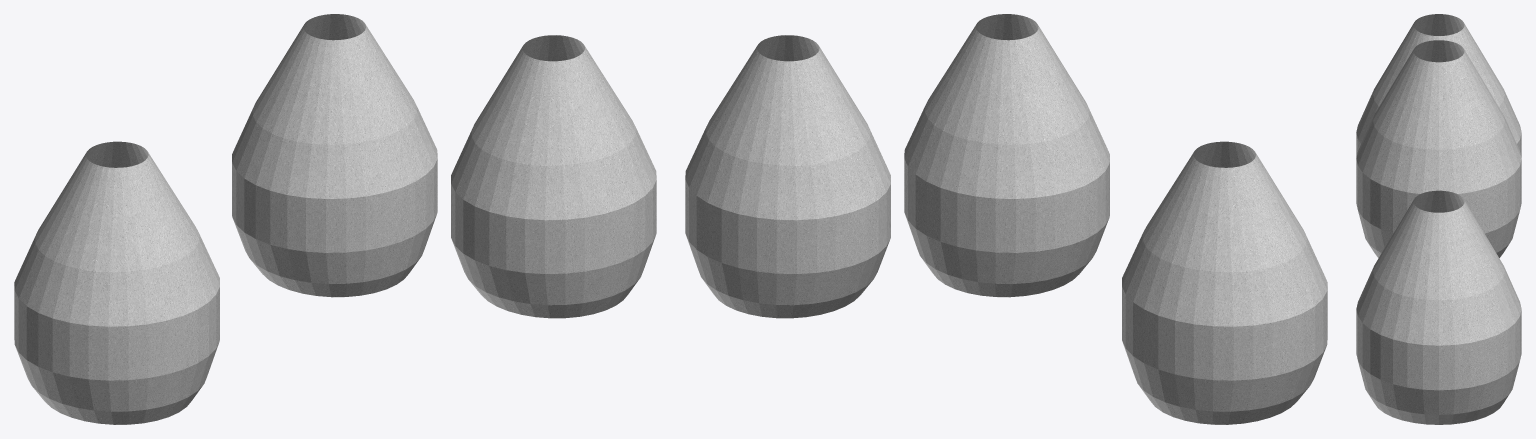
The model's file is лампа_сама.fbx.
3 views of the same model, side by side, from view 1: azimuth 30°, elevation 25°; view 2: azimuth 150°, elevation 25°; view 3: azimuth 270°, elevation 25° (orthographic). The views are drawn at different scales.
Parts seen in each view (by area): view 1: Cylinder; view 2: Cylinder; view 3: Cylinder.
Boxes of the visible parts, x1=… form: Cylinder: x1=14, y1=14, x2=656, y2=424; Cylinder: x1=685, y1=14, x2=1327, y2=424; Cylinder: x1=1356, y1=14, x2=1521, y2=424.
Bounding box in the file's own units: 134 × 68.64 × 37.6.
Materials: 1 (1 with a texture image).
